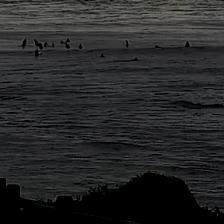surfer: (130, 57, 140, 62), (185, 41, 190, 47), (34, 39, 38, 46), (22, 39, 26, 46), (154, 45, 162, 48), (126, 40, 129, 48), (44, 41, 48, 47), (39, 43, 43, 49), (100, 53, 105, 57), (66, 38, 70, 43), (35, 50, 38, 56), (60, 40, 64, 44), (66, 44, 70, 48), (79, 44, 82, 48), (52, 43, 55, 47)
